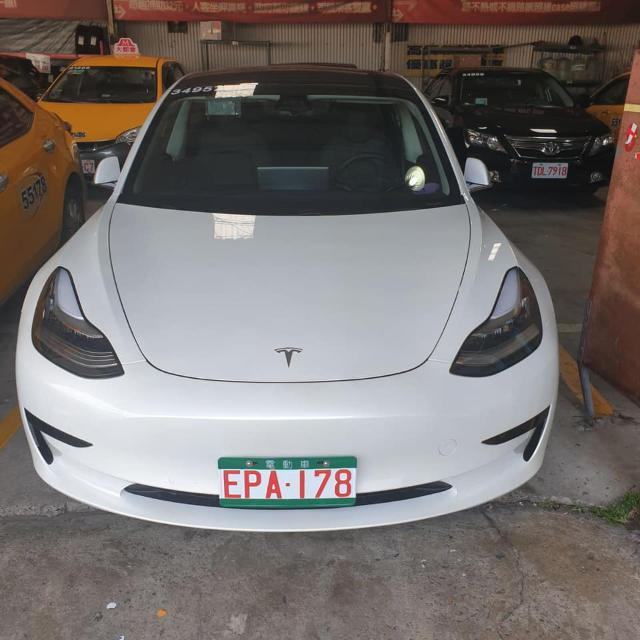plate: (218, 456, 357, 507)
